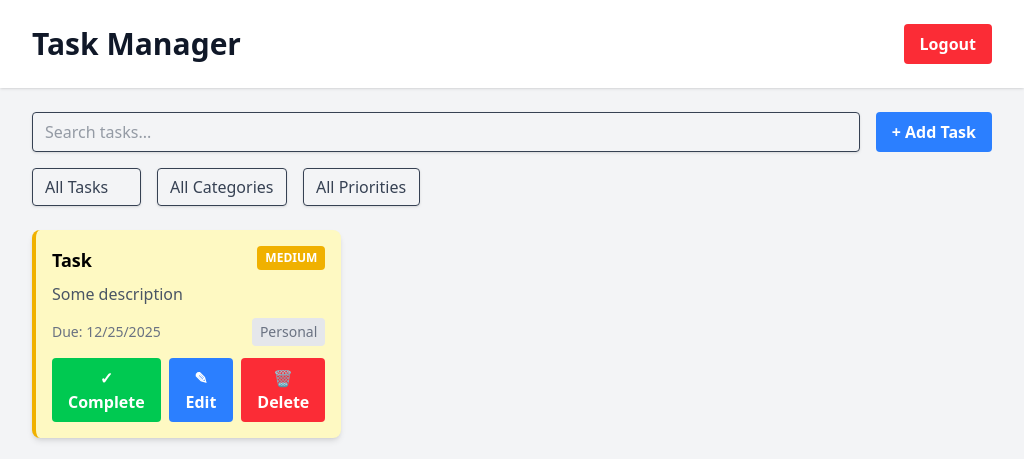
Scenario: TaskManager › shows success notification when toggling task completion
The width and height of the screenshot is (1024, 459).
// Find and click the complete button
Click the button with aria-label "mark task as complete" at (106, 390), box left=52, top=358, right=161, bottom=422
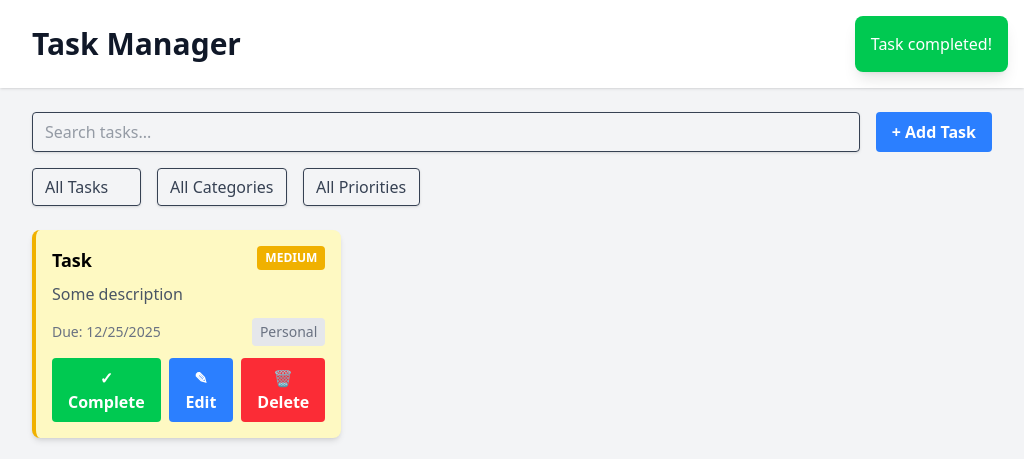
Check: the text "Task completed!" is shown, box left=855, top=16, right=1008, bottom=72
